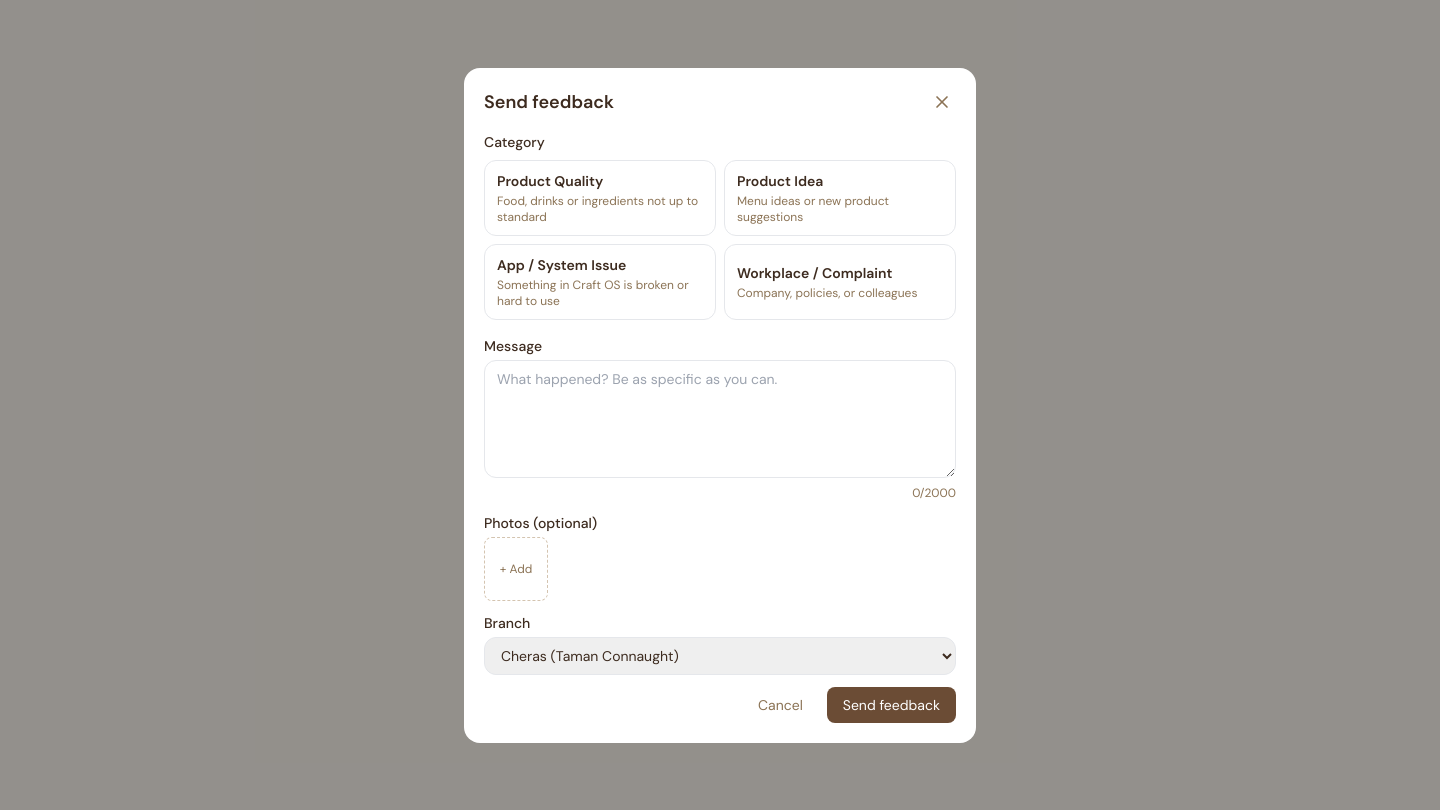
it: FeedbackSheet › 没写内容时显示错误且不提交
Click the button "Product Idea Menu ideas or new product suggestions" at (840, 198), box [724,160,956,236]
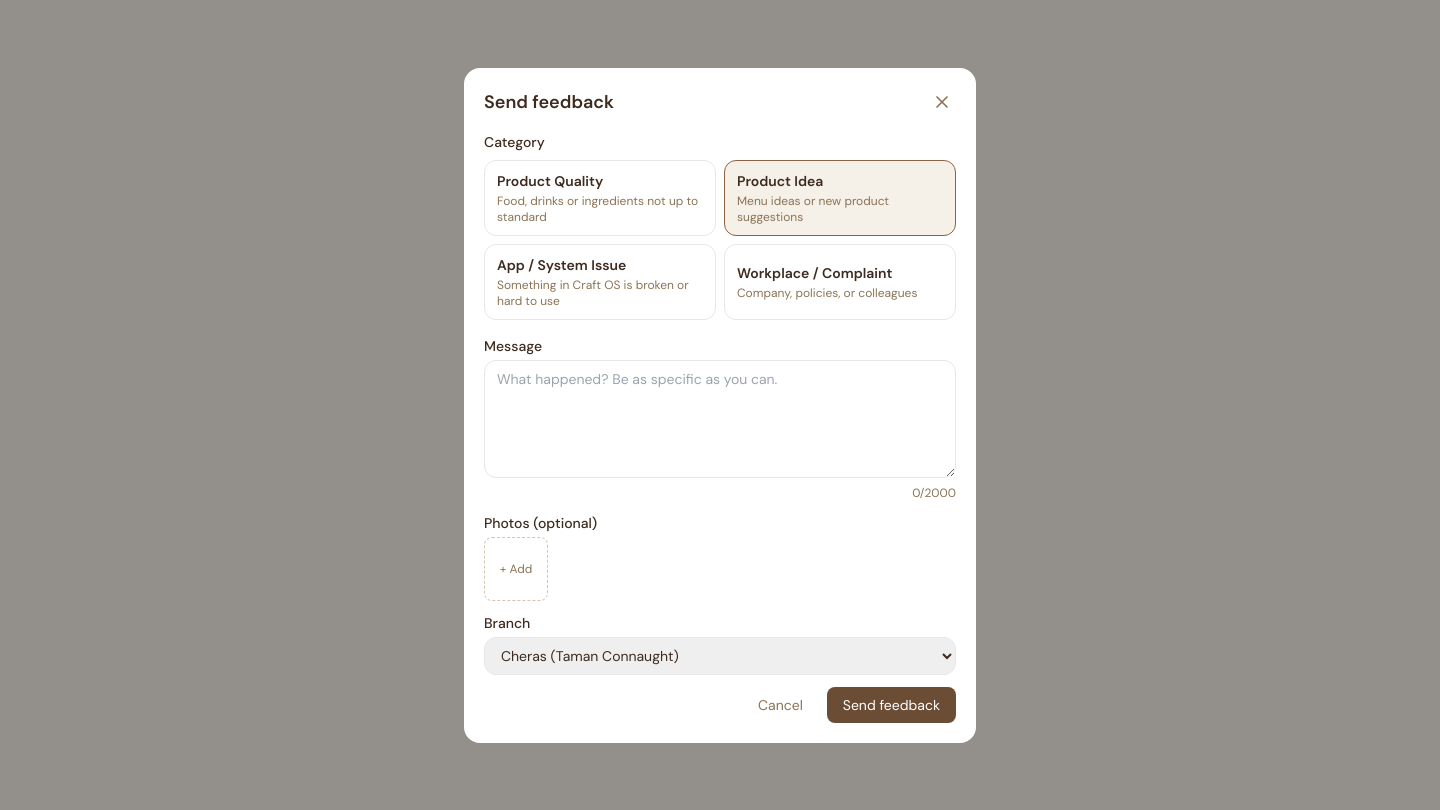
Click the button "Send feedback" at (891, 704), box [827,686,956,722]
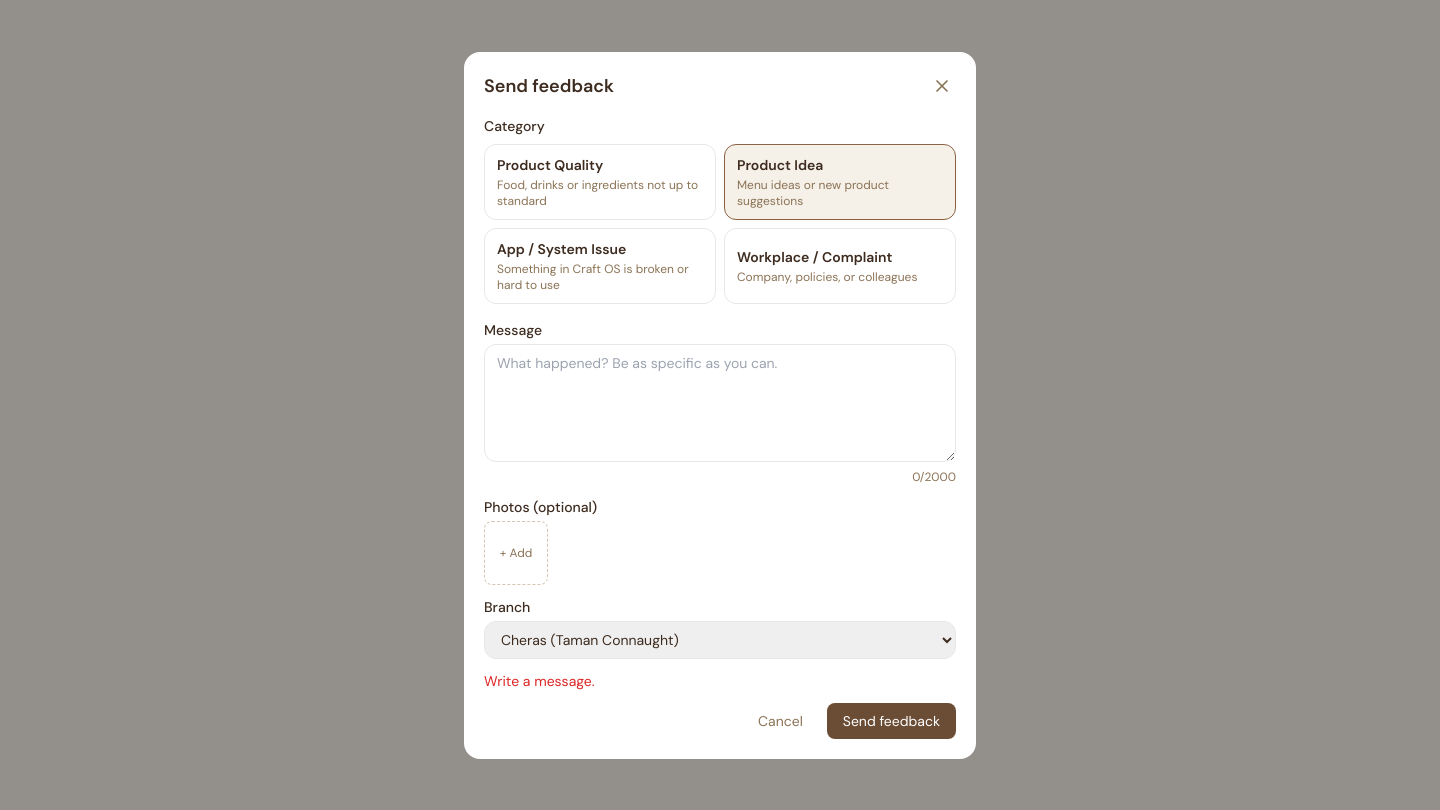
Expected: the message reads "Write a message.", [484,672,594,690]
